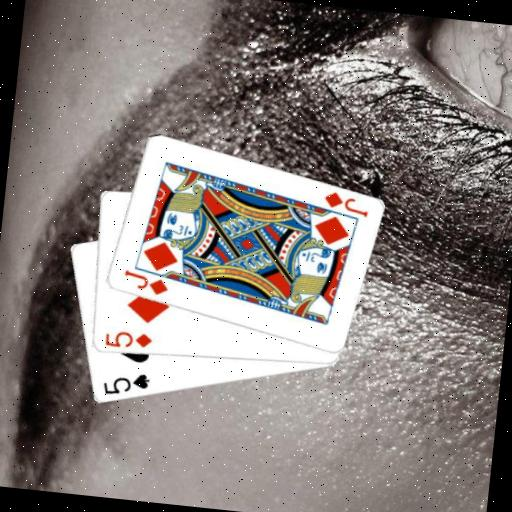5D: (102, 326, 154, 353)
5S: (99, 367, 152, 401)
JD: (119, 266, 171, 298), (319, 188, 371, 220)
